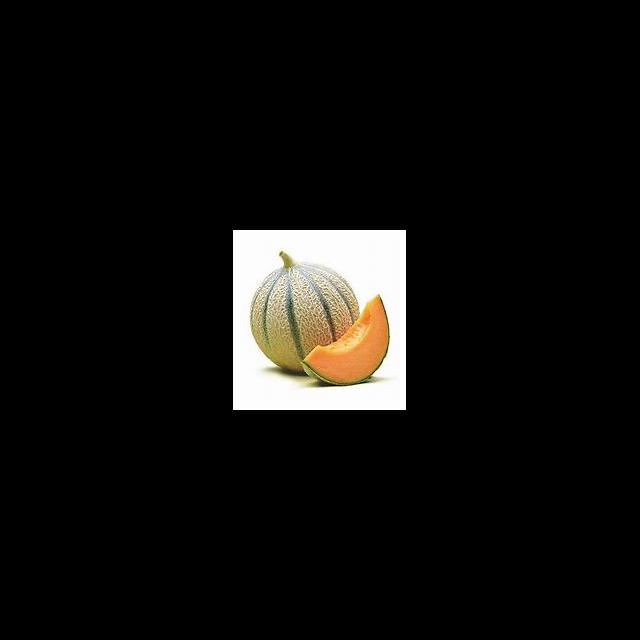Hami Melon: (304, 293, 392, 385)
